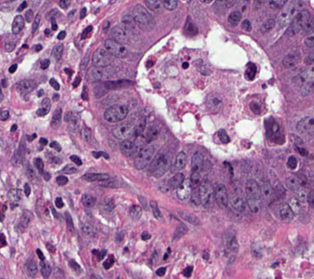nucleus: (150, 150, 171, 177), (134, 145, 154, 169), (223, 232, 238, 263), (198, 179, 213, 208), (104, 104, 128, 122), (104, 39, 126, 57), (92, 48, 112, 66), (170, 151, 186, 173), (87, 66, 110, 81), (206, 92, 222, 113), (214, 184, 228, 208), (113, 123, 133, 139), (111, 26, 128, 44), (176, 180, 191, 200), (120, 139, 137, 156), (167, 172, 184, 189), (16, 79, 35, 94), (11, 144, 24, 165), (178, 211, 199, 224), (230, 195, 246, 212), (64, 112, 79, 130), (245, 179, 260, 197), (8, 188, 21, 207), (172, 224, 187, 240), (103, 80, 129, 89), (19, 210, 32, 228), (191, 152, 203, 171), (246, 197, 261, 212), (82, 173, 109, 181), (149, 200, 161, 218), (134, 117, 145, 136), (145, 126, 158, 142), (260, 181, 272, 198), (81, 193, 95, 207), (80, 223, 95, 236), (189, 172, 201, 188), (51, 108, 61, 127), (99, 177, 118, 187), (129, 205, 141, 220), (245, 63, 256, 79), (251, 242, 262, 258), (26, 259, 36, 276), (40, 260, 50, 277), (267, 121, 278, 136), (65, 212, 73, 232), (102, 198, 114, 211), (69, 260, 81, 273), (218, 129, 229, 143), (52, 44, 62, 59), (82, 126, 92, 141), (26, 164, 35, 179), (61, 164, 76, 173), (81, 26, 92, 38), (36, 106, 49, 116), (103, 255, 113, 268), (34, 158, 43, 172), (49, 141, 61, 151), (92, 151, 108, 158), (49, 78, 59, 89), (250, 102, 260, 113), (70, 155, 81, 165), (56, 175, 67, 185), (53, 267, 64, 277), (191, 192, 200, 204), (93, 250, 105, 259), (5, 40, 14, 51), (183, 266, 192, 276), (115, 231, 123, 242), (0, 110, 8, 120), (55, 197, 63, 207), (36, 249, 44, 259), (81, 86, 87, 99), (24, 183, 30, 196), (41, 59, 49, 68), (141, 232, 150, 240), (46, 243, 54, 252), (156, 267, 165, 275), (73, 76, 80, 86), (0, 233, 5, 246), (57, 31, 65, 39), (33, 44, 41, 51), (9, 64, 16, 72), (39, 138, 47, 145), (42, 172, 49, 180), (27, 134, 35, 140), (10, 124, 16, 131), (146, 61, 152, 67), (182, 62, 188, 68), (65, 68, 71, 74), (1, 79, 6, 86), (53, 94, 58, 100), (38, 90, 43, 95)
